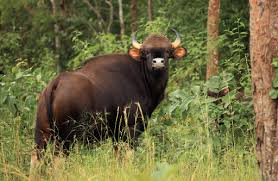bison: (29, 26, 187, 176)
